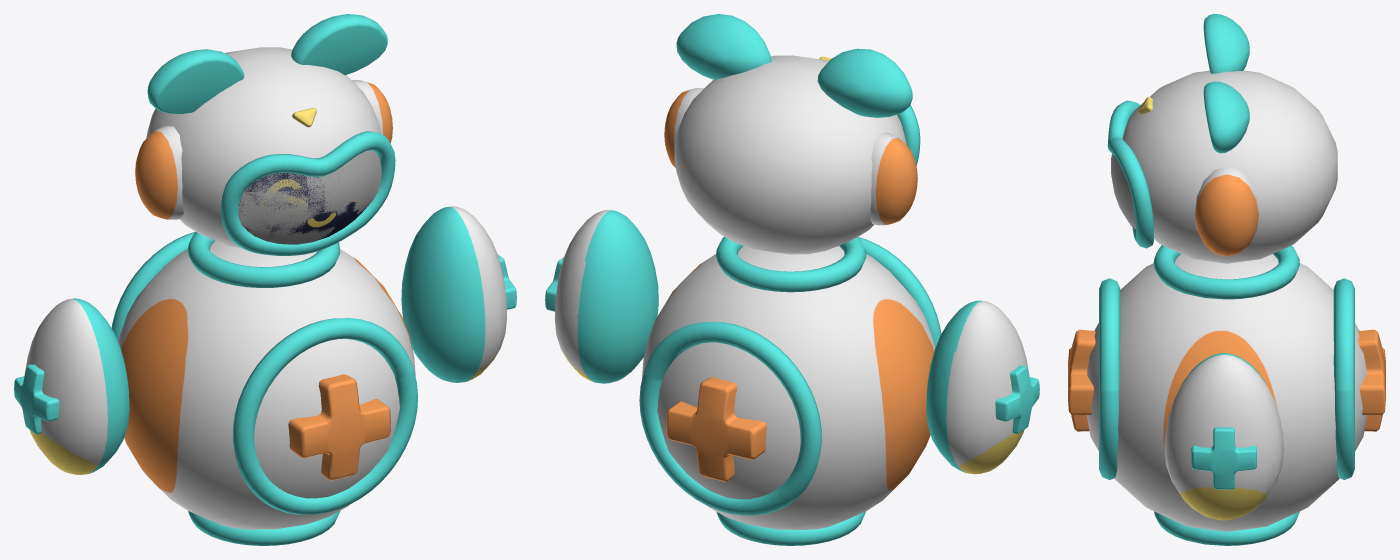
File: toyTest.glb
3 renders of one model, left to right at view 1: azimuth 30°, elevation 25°; view 2: azimuth 150°, elevation 25°; view 3: azimuth 270°, elevation 25°, orthographic. The views are drawn at different scales.
Visible parts, largest first — view 1: pSphere1, polySurface14, pSphere2, sweep1, polySurface19, polySurface11, polySurface27, polySurface17, surprise, sweep3, brave, sweep4 (+3 smaller); view 2: pSphere1, pSphere2, polySurface14, sweep1, polySurface19, polySurface26, polySurface17, sweep3, polySurface20, sweep4, polySurface11; view 3: pSphere1, pSphere2, polySurface14, sweep1, polySurface19, polySurface17, sweep3, polySurface11, polySurface20, polySurface26, polySurface27, sweep4 (+1 smaller).
Part boxes in pixels (x1,y1,x2,y2): pSphere1: [118, 241, 415, 529]; polySurface14: [24, 206, 506, 474]; pSphere2: [146, 47, 380, 248]; sweep1: [111, 232, 417, 514]; polySurface19: [147, 14, 387, 113]; polySurface11: [221, 131, 395, 255]; polySurface27: [288, 374, 390, 480]; polySurface17: [135, 80, 392, 219]; surprise: [238, 173, 333, 244]; sweep3: [187, 231, 340, 287]; brave: [278, 150, 381, 229]; sweep4: [188, 511, 340, 545]; pSphere1: [641, 246, 935, 529]; pSphere2: [674, 55, 906, 254]; polySurface14: [554, 210, 1029, 474]; sweep1: [639, 237, 941, 515]; polySurface19: [676, 14, 912, 117]; polySurface26: [666, 377, 766, 481]; polySurface17: [664, 88, 917, 225]; sweep3: [716, 236, 866, 292]; polySurface20: [545, 257, 1039, 433]; sweep4: [716, 511, 865, 545]; polySurface11: [897, 105, 920, 165]; pSphere1: [1086, 254, 1367, 531]; pSphere2: [1122, 70, 1337, 263]; polySurface14: [1164, 353, 1283, 520]; sweep1: [1099, 278, 1354, 479]; polySurface19: [1203, 14, 1249, 153]; polySurface17: [1194, 166, 1259, 256]; sweep3: [1153, 245, 1299, 299]; polySurface11: [1107, 100, 1153, 248]; polySurface20: [1191, 427, 1256, 489]; polySurface26: [1358, 329, 1385, 431]; polySurface27: [1068, 329, 1095, 431]; sweep4: [1154, 511, 1299, 545].
Bounding box in the file's own units: 1.73 × 1.69 × 1.04.
2 materials, 1 textured.
